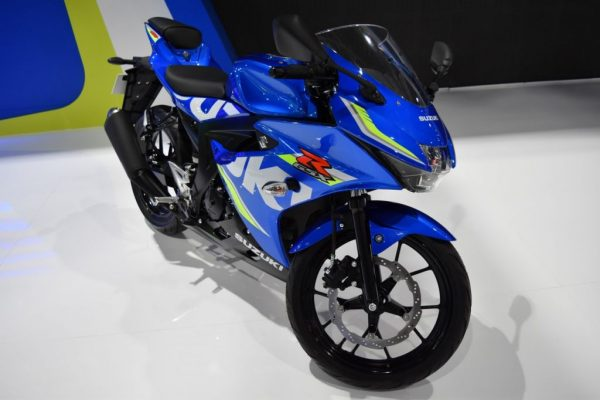motorcycle: (115, 12, 476, 391)
